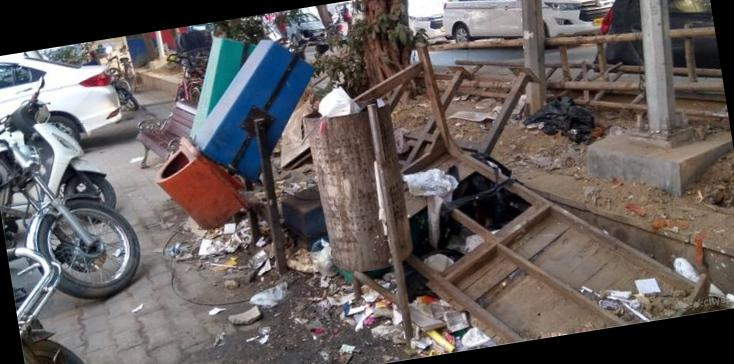trash: (319, 277, 397, 327), (191, 216, 246, 254), (292, 242, 334, 271)
